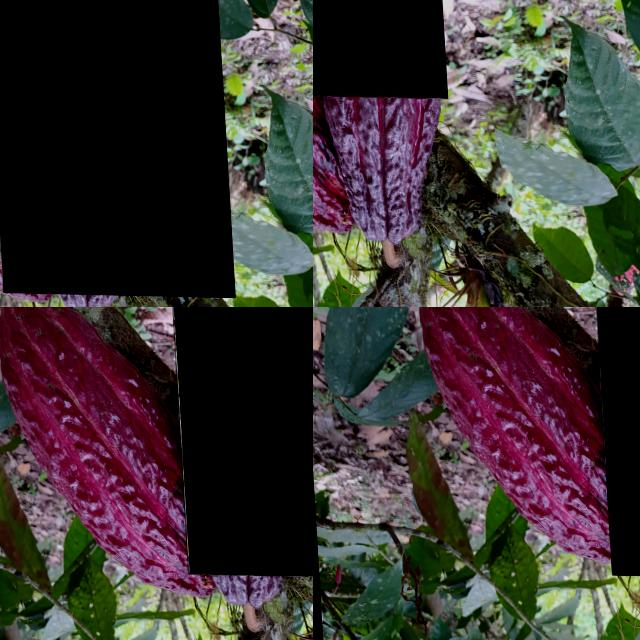Sana: (0, 0, 230, 295), (413, 307, 634, 570), (163, 307, 313, 576), (586, 307, 640, 576), (467, 0, 589, 102)
